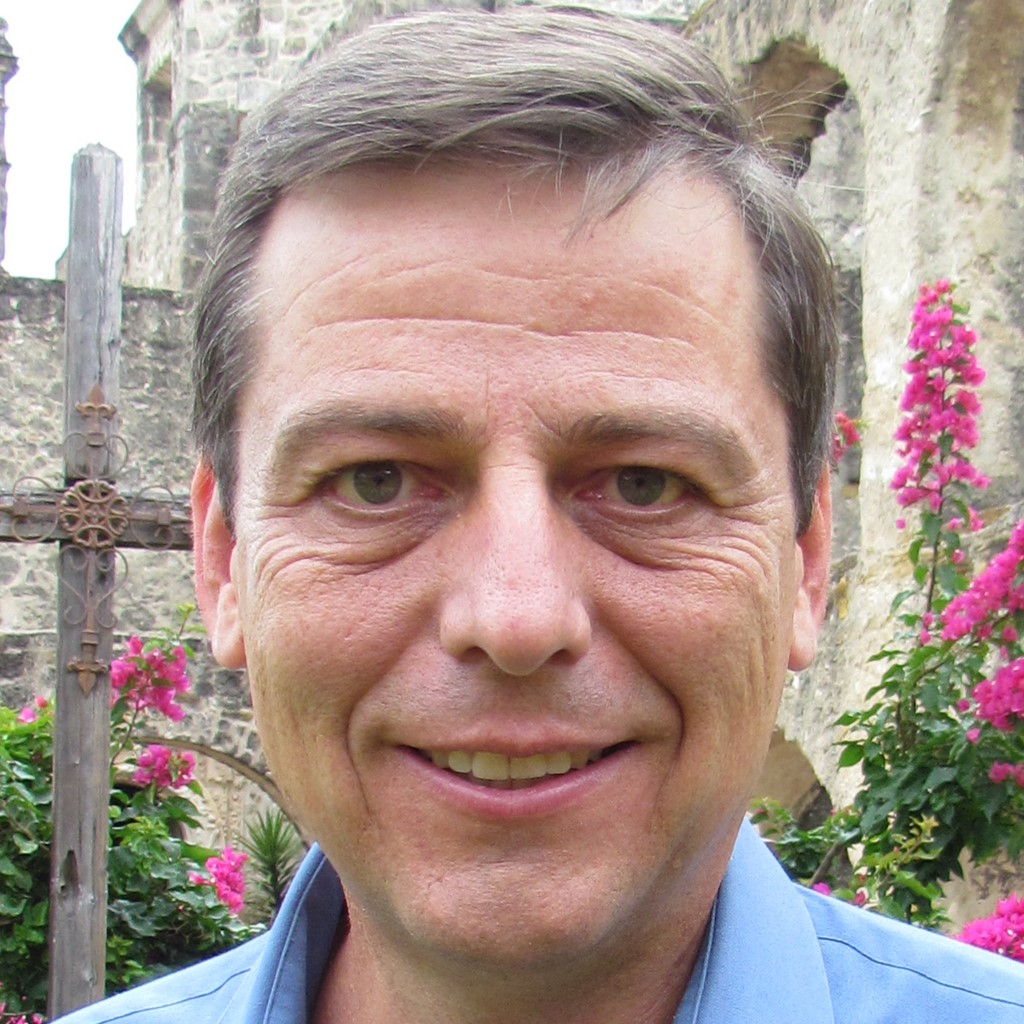sin_mascara: (194, 95, 792, 977)
